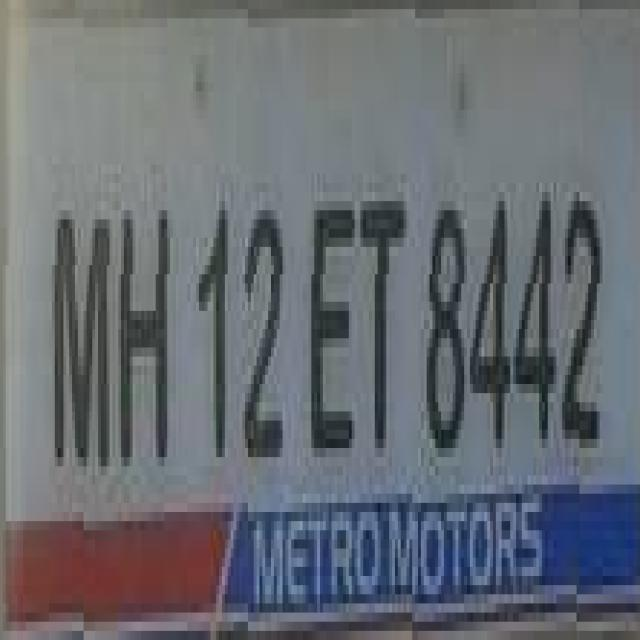license_plate: (0, 18, 620, 622)
